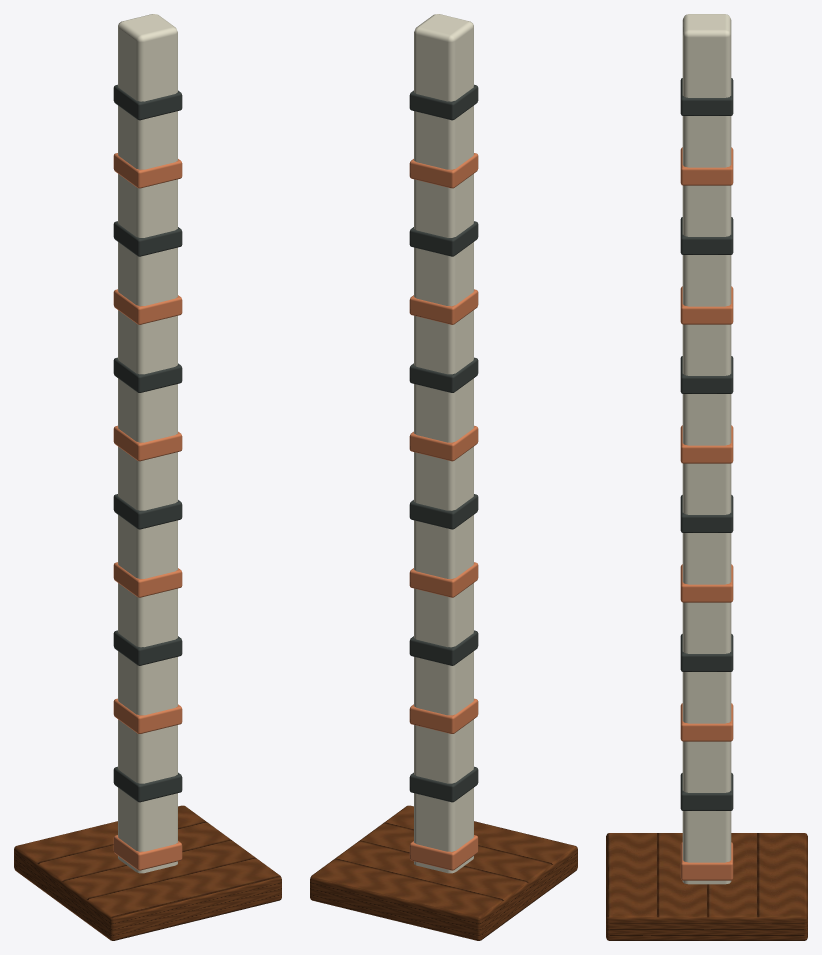
Rendered from prehistoric-expedition-sites-measuring-datum-post-9a586905__26104.glb.
The picture shows the model from 3 angles, left to right: view 1: azimuth 30°, elevation 25°; view 2: azimuth 150°, elevation 25°; view 3: azimuth 270°, elevation 25°; orthographic projection.
Parts seen in each view (by area): view 1: measuring-datum-post; view 2: measuring-datum-post; view 3: measuring-datum-post.
Boxes of the visible parts, <box> form: measuring-datum-post: <box>14,14,281,940</box>; measuring-datum-post: <box>310,14,577,940</box>; measuring-datum-post: <box>606,14,807,940</box>.
Size of the model in its own units: 0.25 by 1.2 by 0.25.
Materials: 4 (1 with a texture image).
